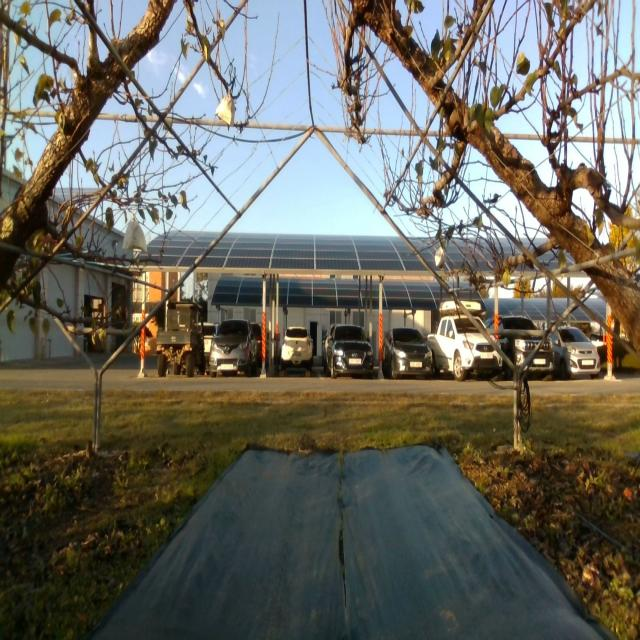pearbags: (122, 220, 147, 252), (214, 94, 234, 127), (434, 247, 444, 268)
